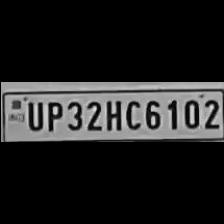0: (180, 96, 198, 128)
1: (162, 97, 180, 131)
2: (200, 96, 220, 130), (84, 98, 103, 132)
3: (63, 98, 81, 132)
6: (142, 97, 160, 131)
C: (122, 97, 140, 131)
H: (102, 97, 120, 131)
P: (43, 97, 62, 132)
U: (22, 98, 42, 132)
